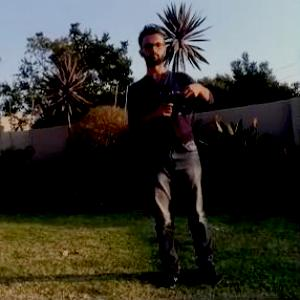follow: (125, 15, 228, 292)
